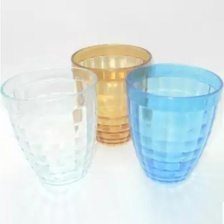glass: (121, 60, 223, 188), (0, 64, 101, 187), (68, 38, 155, 150)
